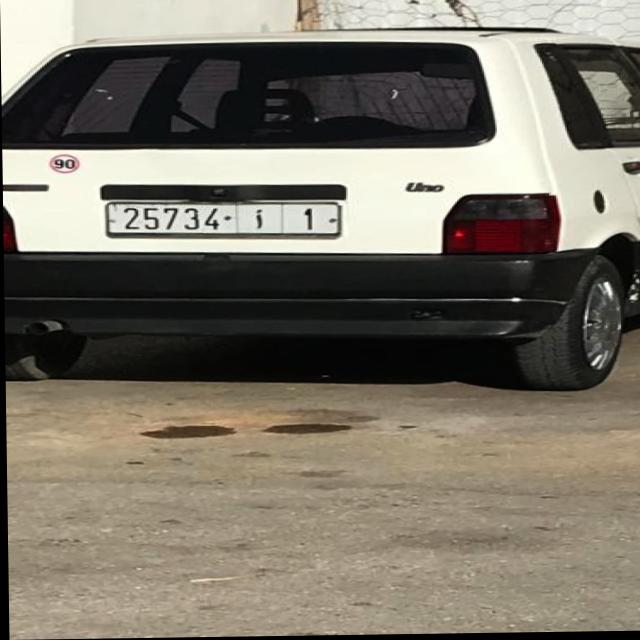License-Plate: (112, 206, 335, 234)
